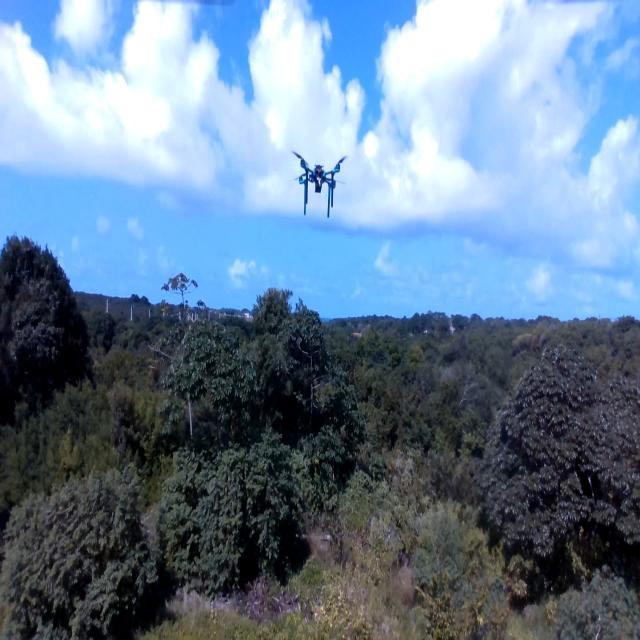-uav-: (285, 140, 352, 227)
